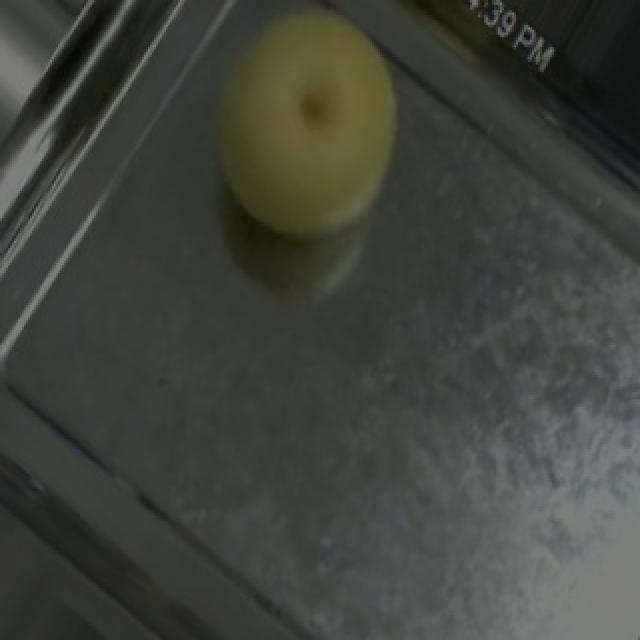Fruit: (164, 0, 452, 285)
